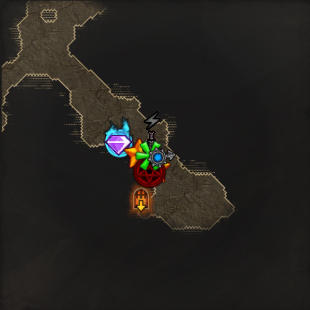Exit: (131, 185, 152, 213)
Urushi: (105, 118, 132, 158)
